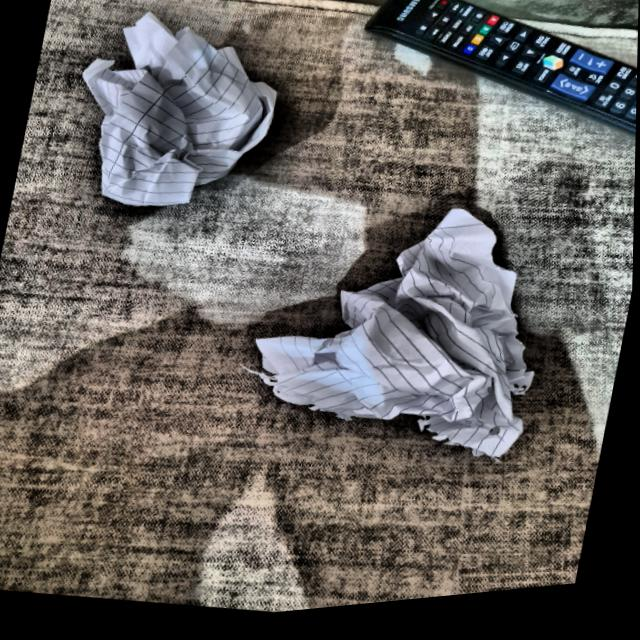Paper: (292, 190, 557, 480), (62, 0, 295, 232)
